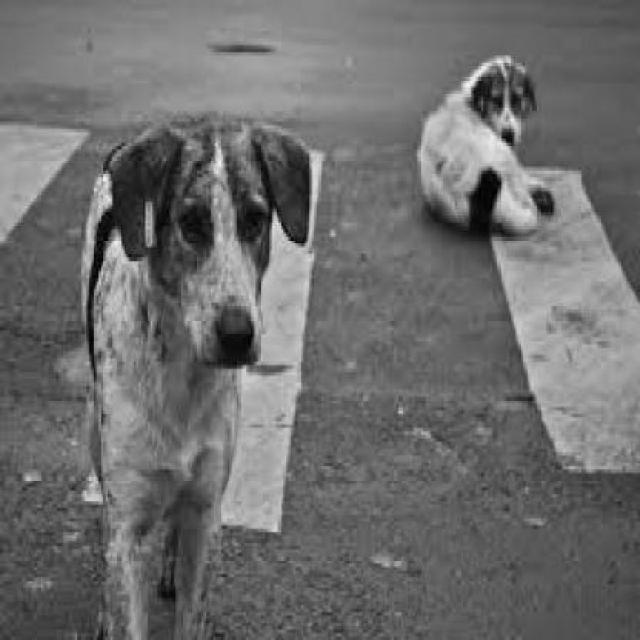Dog: (72, 73, 360, 636), (415, 5, 576, 249)
